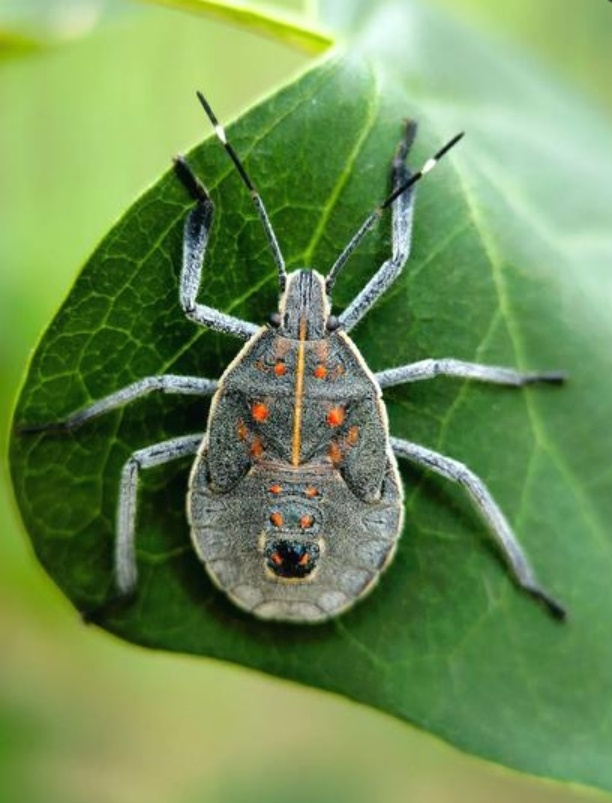Stink_Bug: (121, 145, 557, 651)
